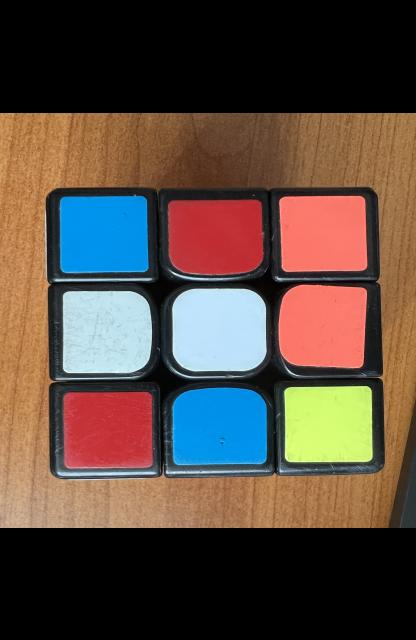Blue: (172, 386, 267, 464), (59, 195, 149, 272)
Orange: (278, 284, 367, 368), (279, 194, 368, 270)
Red: (168, 199, 263, 273), (63, 390, 153, 467)
White: (172, 288, 267, 371), (63, 290, 152, 372)
Yellow: (284, 385, 373, 462)
